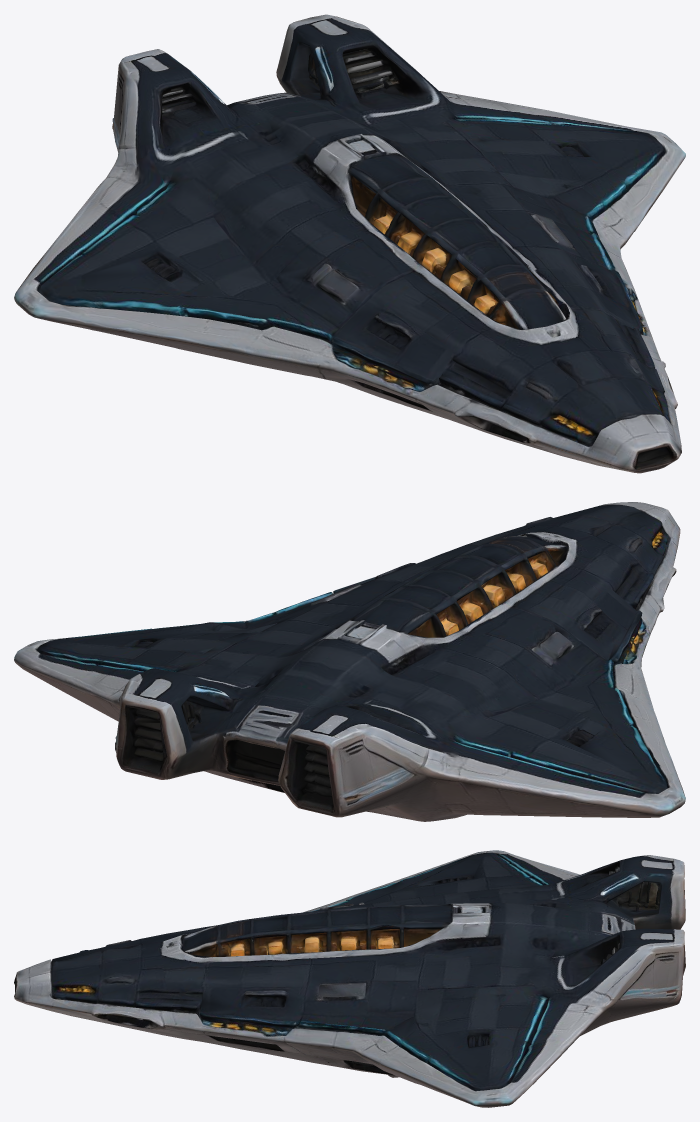
Rendered from kestrel.glb.
3 views of the same model, one above another, from view 1: azimuth 30°, elevation 25°; view 2: azimuth 150°, elevation 25°; view 3: azimuth 270°, elevation 25° (orthographic). The views are drawn at different scales.
Visible parts, largest first — view 1: kestrel; view 2: kestrel; view 3: kestrel.
Boxes of the visible parts, <box> form: kestrel: <box>14,14,685,473</box>; kestrel: <box>14,502,685,821</box>; kestrel: <box>14,850,685,1107</box>.
Bounding box in the file's own units: 0.8764 × 0.2474 × 0.9998.
Materials: 1 (1 with a texture image).
